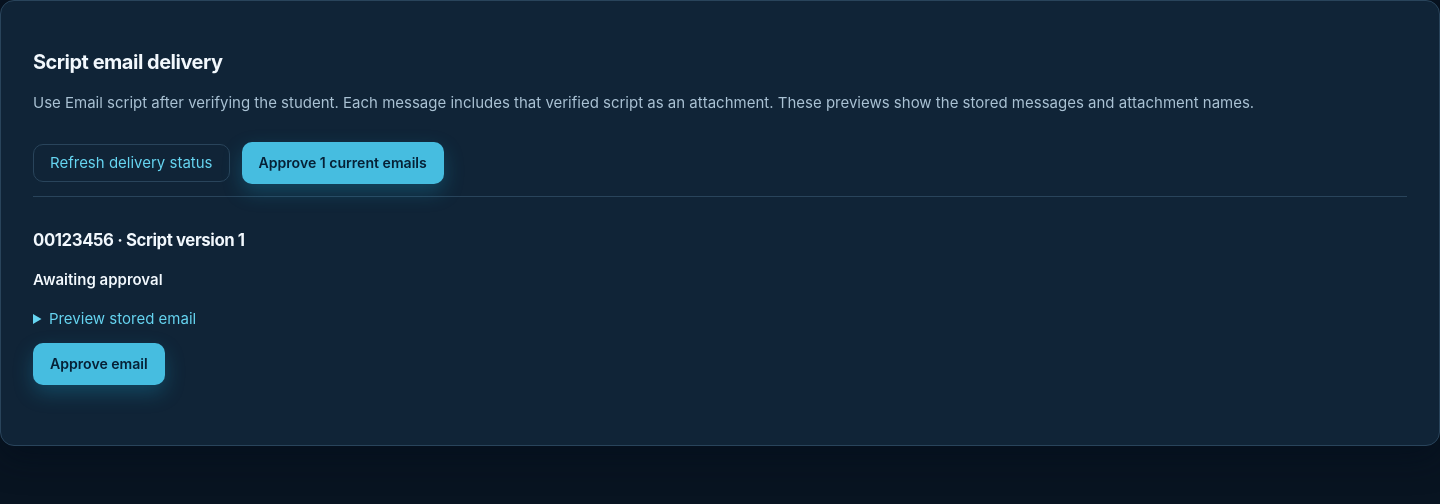
ScriptEmailPanel › approves one email and refreshes the queued status
The image size is (1440, 504).
Click the button "Approve email" at (99, 364), box [33, 343, 165, 385]
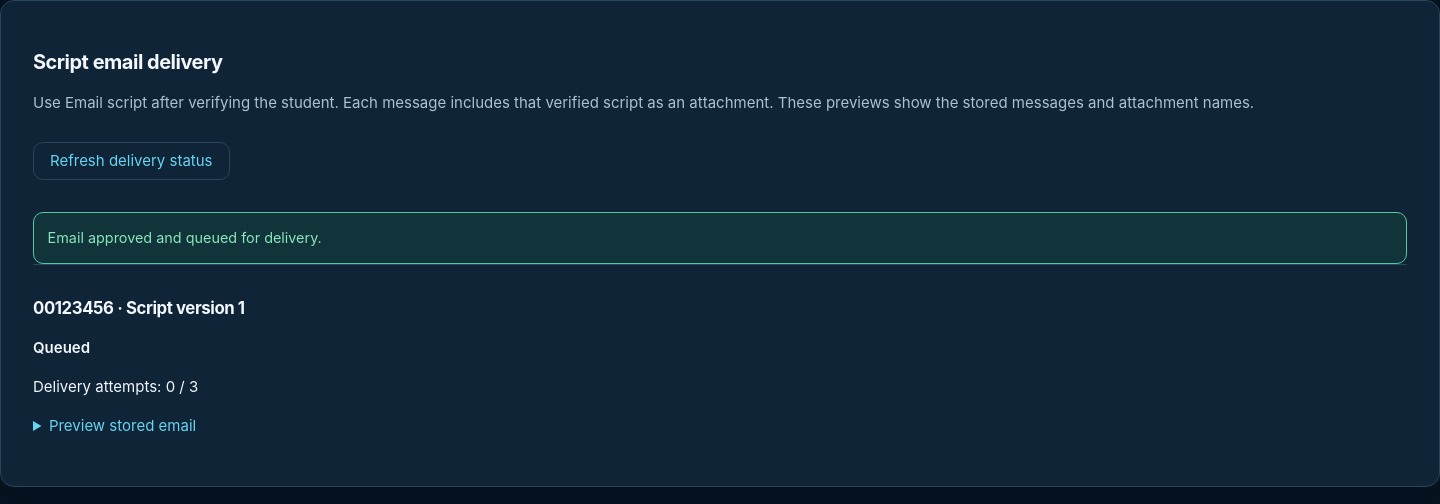
Now the text "queued" is shown, box [48, 229, 322, 246]
